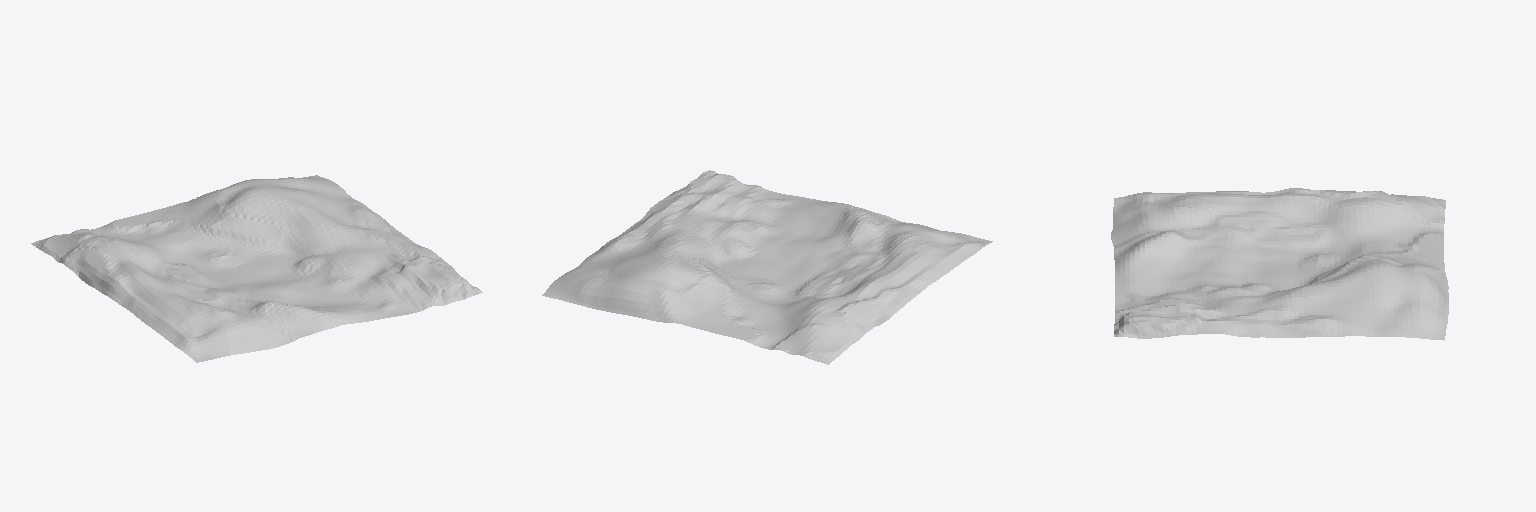
File: SnowTerrain2.obj
3 renders of one model, left to right at view 1: azimuth 30°, elevation 25°; view 2: azimuth 150°, elevation 25°; view 3: azimuth 270°, elevation 25°, orthographic.
Parts seen in each view (by area): view 1: Plane_Plane.002; view 2: Plane_Plane.002; view 3: Plane_Plane.002.
Part boxes in pixels (left/top/right/bottom): Plane_Plane.002: left=31, top=175, right=482, bottom=362; Plane_Plane.002: left=542, top=170, right=992, bottom=364; Plane_Plane.002: left=1111, top=188, right=1448, bottom=340.
Size of the model in its own units: 63.5 by 6.28 by 63.96.